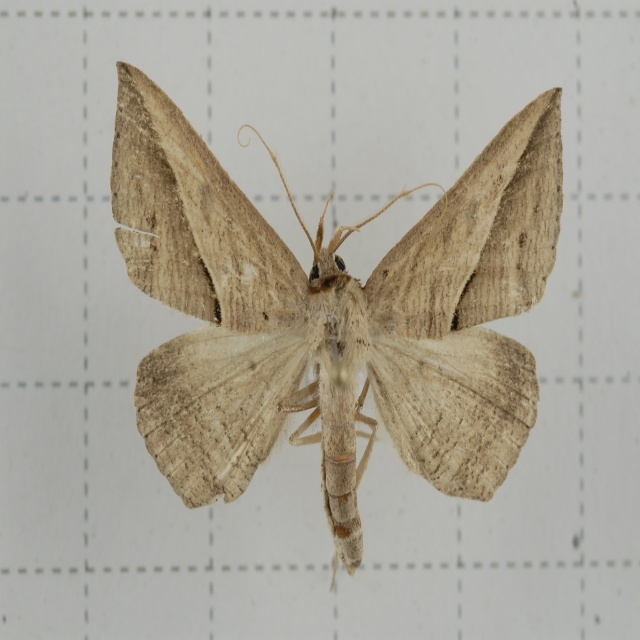Moths and butterflies: (108, 61, 566, 595)
